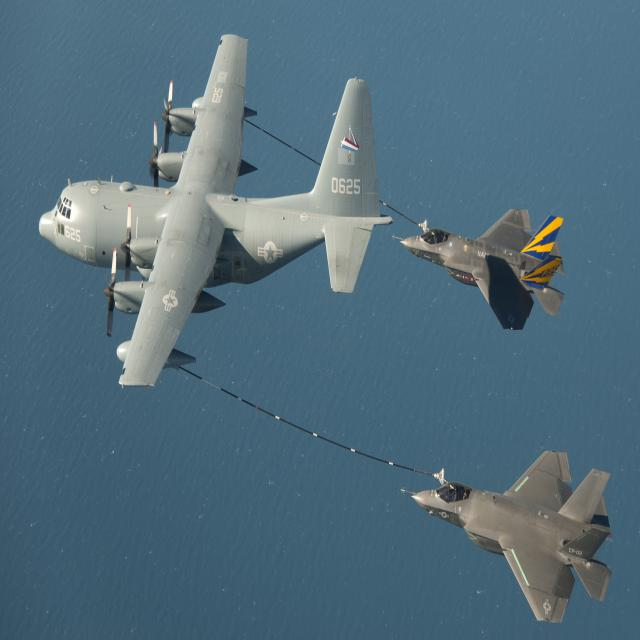MIL_Plane: (35, 33, 390, 391), (396, 450, 612, 624), (387, 207, 566, 331)
